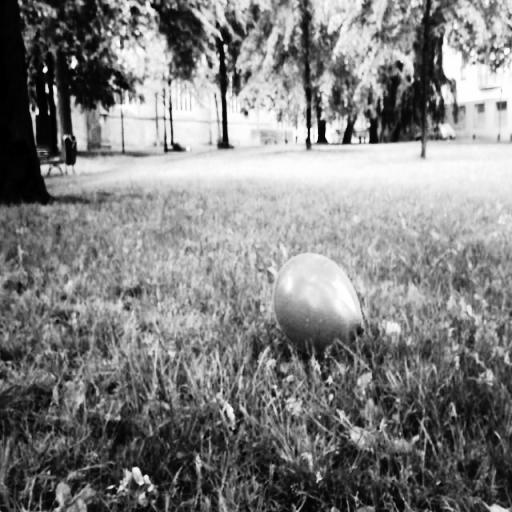balloon: (270, 251, 365, 357)
